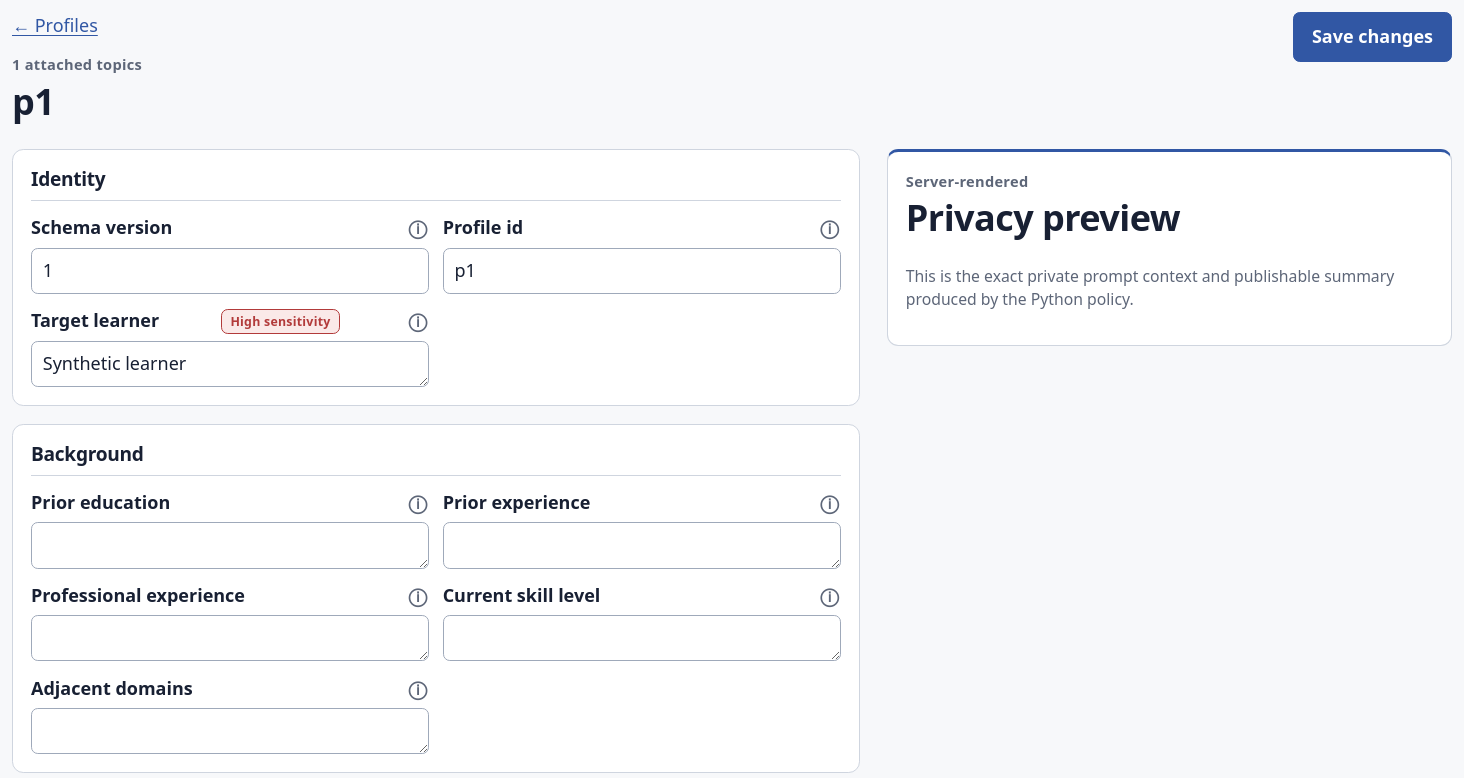
Scenario: ProfileEditorPage › announces and focuses ordinary save errors
Type " changed" into the text box named "Target learner" at (230, 364), box [31,341,429,387]
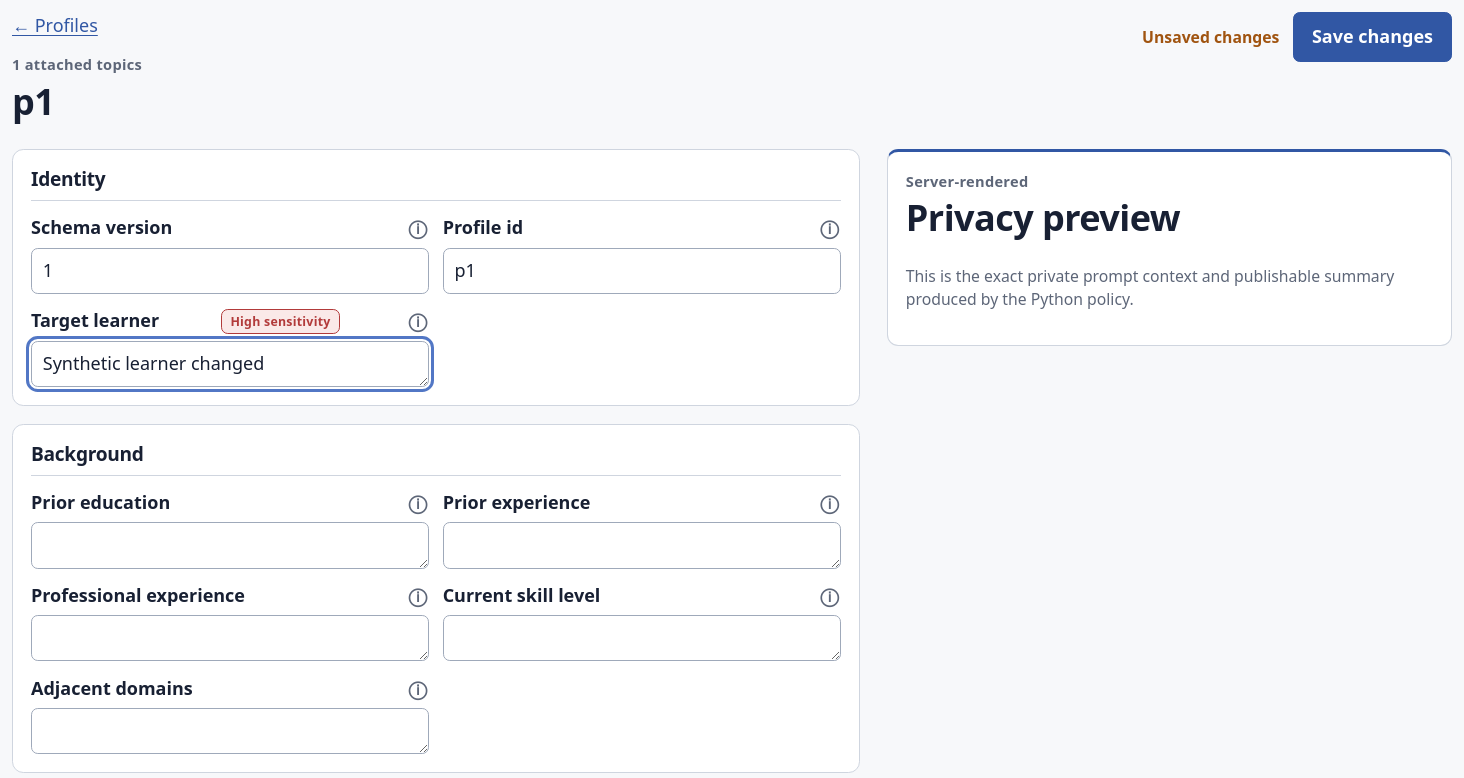
Click the button "Save changes" at (1372, 37), box [1293,12,1452,62]
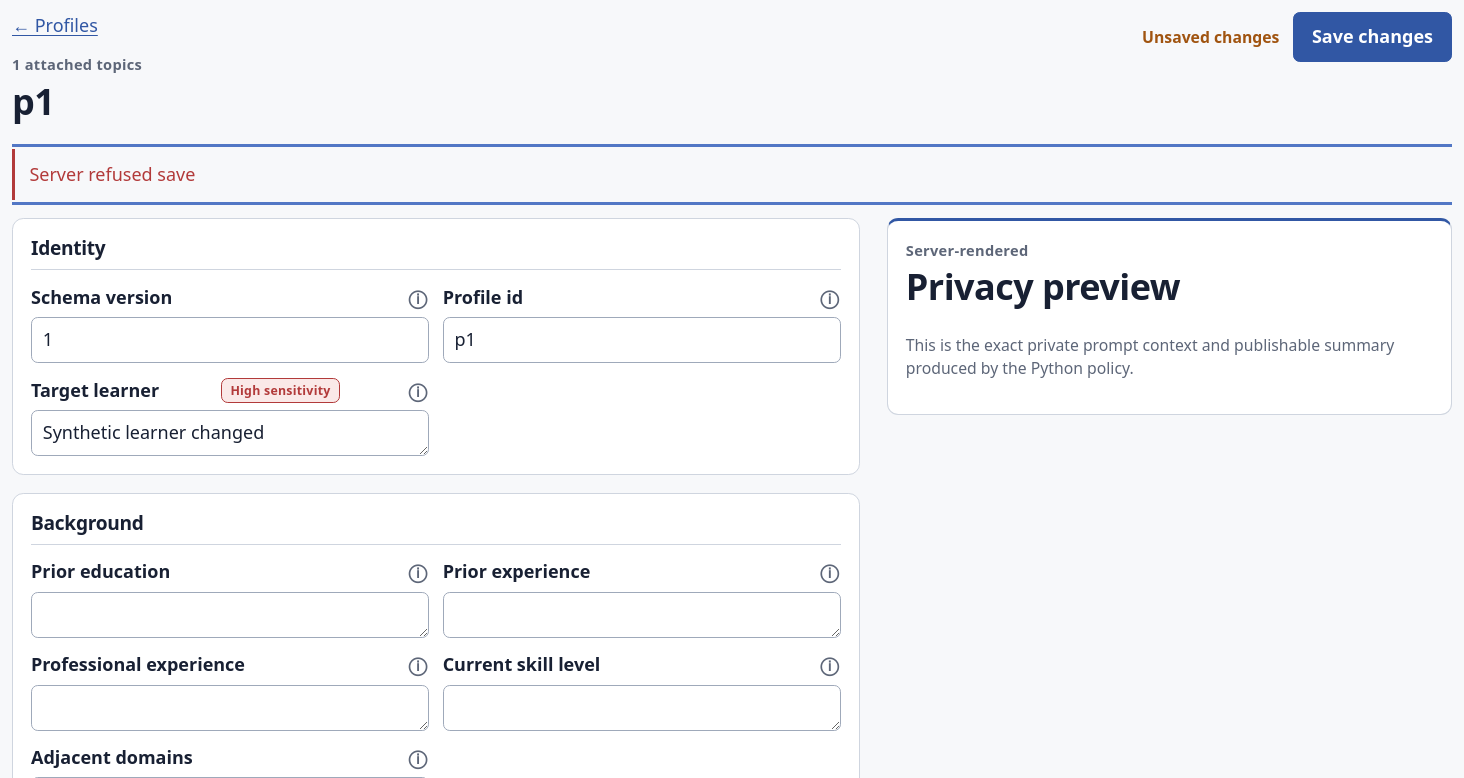
Now the message reads "Server refused save", box [29,162,195,186]
